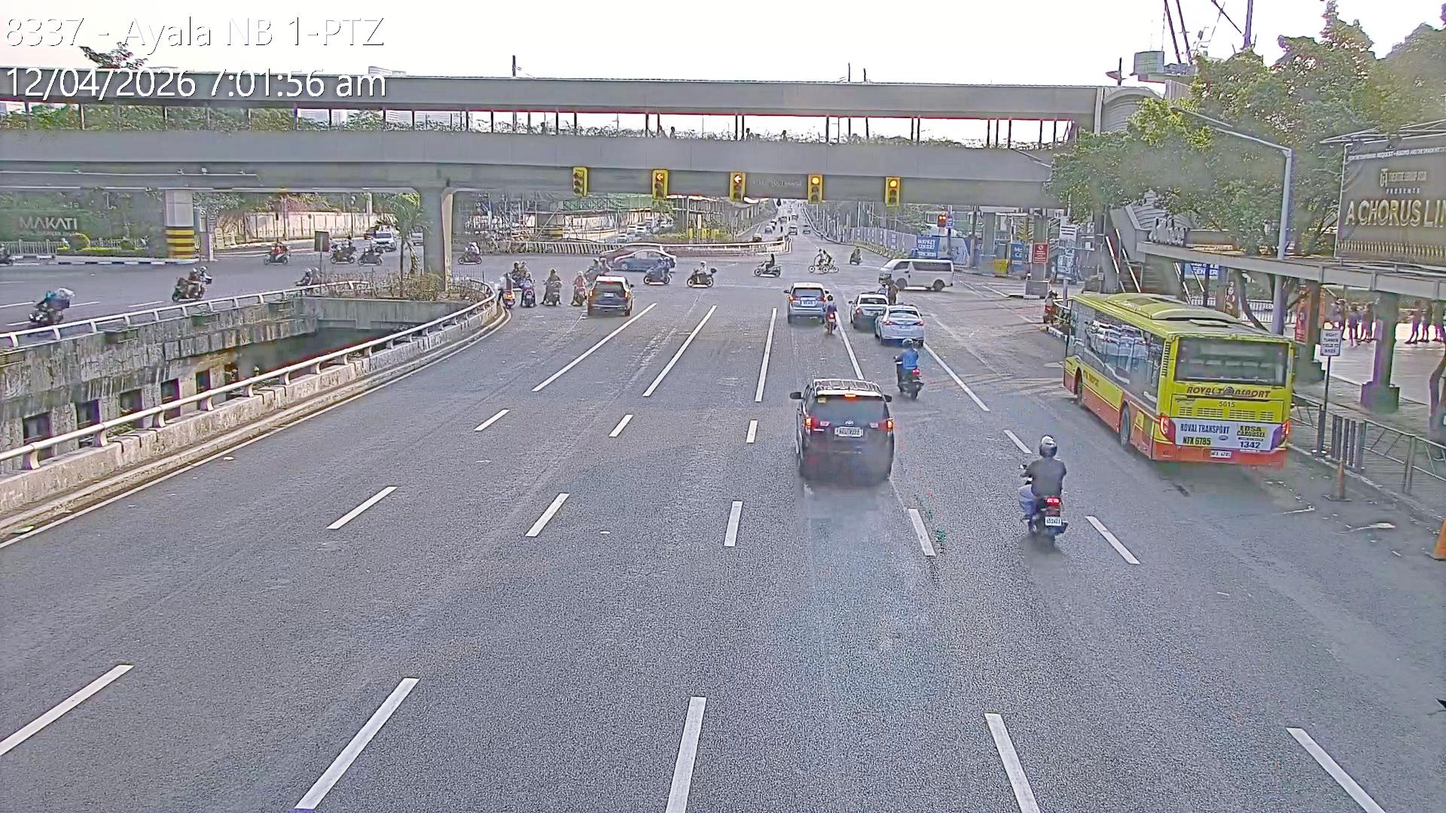Car: (790, 377, 895, 483), (880, 259, 956, 292), (586, 274, 636, 318), (873, 305, 926, 346), (783, 281, 830, 325), (607, 247, 676, 272), (849, 292, 890, 330), (599, 243, 665, 262), (364, 224, 397, 251)
Motor: (1018, 455, 1069, 545), (27, 280, 76, 334), (173, 265, 212, 300), (895, 350, 923, 395), (496, 260, 535, 290), (539, 266, 565, 308), (325, 232, 358, 265), (641, 255, 676, 286), (293, 262, 324, 294), (686, 260, 718, 289), (453, 239, 487, 266), (517, 271, 538, 311), (358, 238, 386, 268), (497, 269, 518, 308), (264, 236, 291, 266), (752, 253, 783, 279), (821, 292, 840, 334), (568, 269, 589, 306)
Not Accident: (500, 262, 588, 312), (851, 289, 923, 347), (583, 256, 639, 320), (788, 280, 839, 334), (618, 248, 677, 284)
